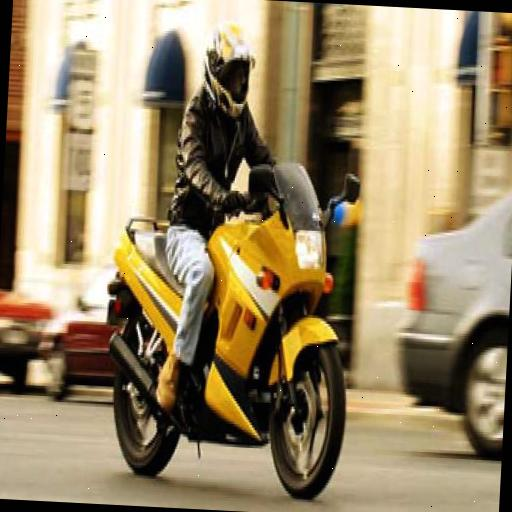helmet: (150, 1, 271, 436)
